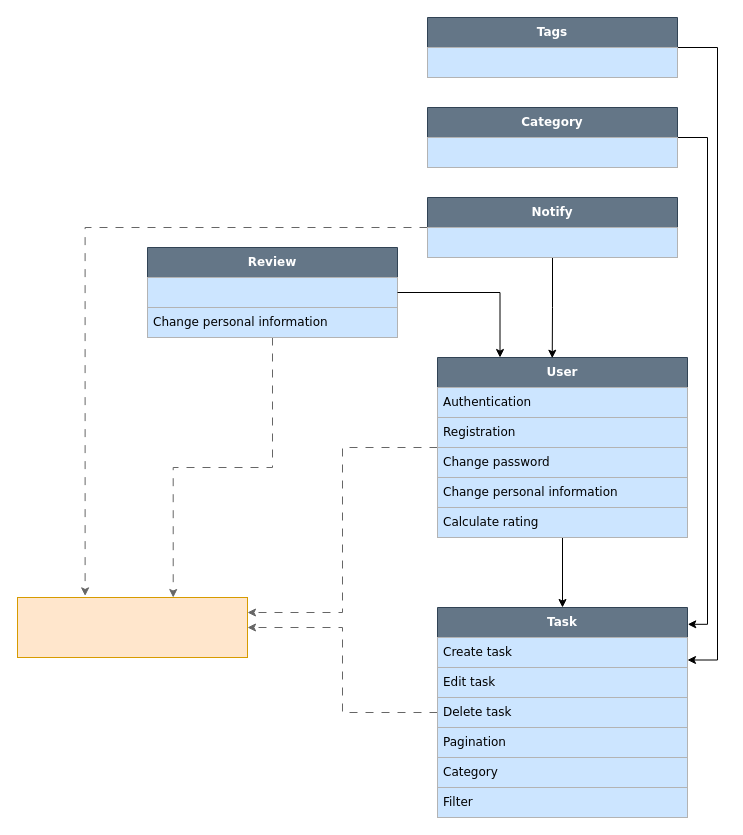
The diagram is 743 pixels wide and 835 high, and some of its shapes have lost their labels. The centre of each missing label's shape, as x and y in pixels:
"BFF (Backend For Frontend)" belongs at (x=132, y=627).
"Create category" belongs at (x=552, y=152).
"Create review" belongs at (x=272, y=292).
"Create tag" belongs at (x=552, y=62).
"New task" belongs at (x=552, y=242).
